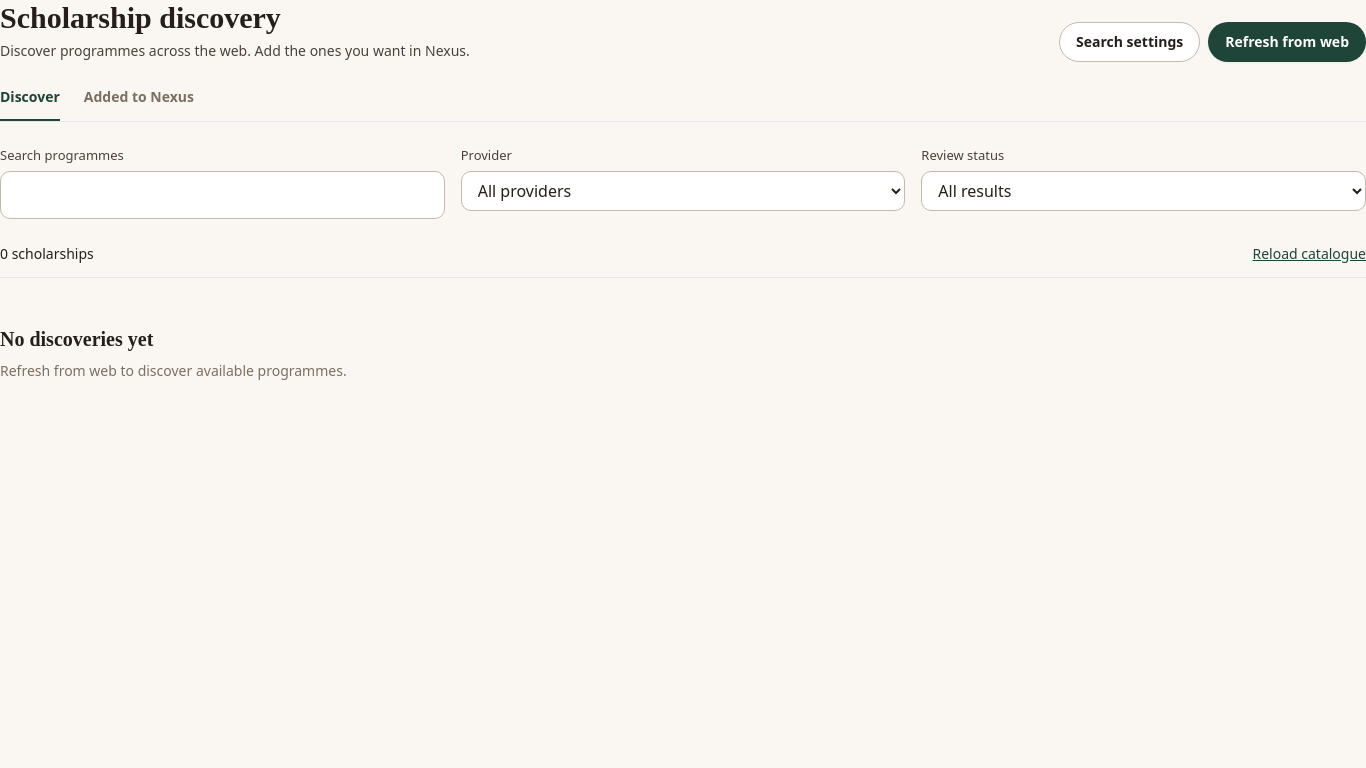
requires an explicit approval action for pending published changes
expect the text "0 scholarships" is shown: met, box [0, 243, 94, 265]
Click the tab "Added to Nexus". click: (139, 104)
box: [84, 86, 194, 121]
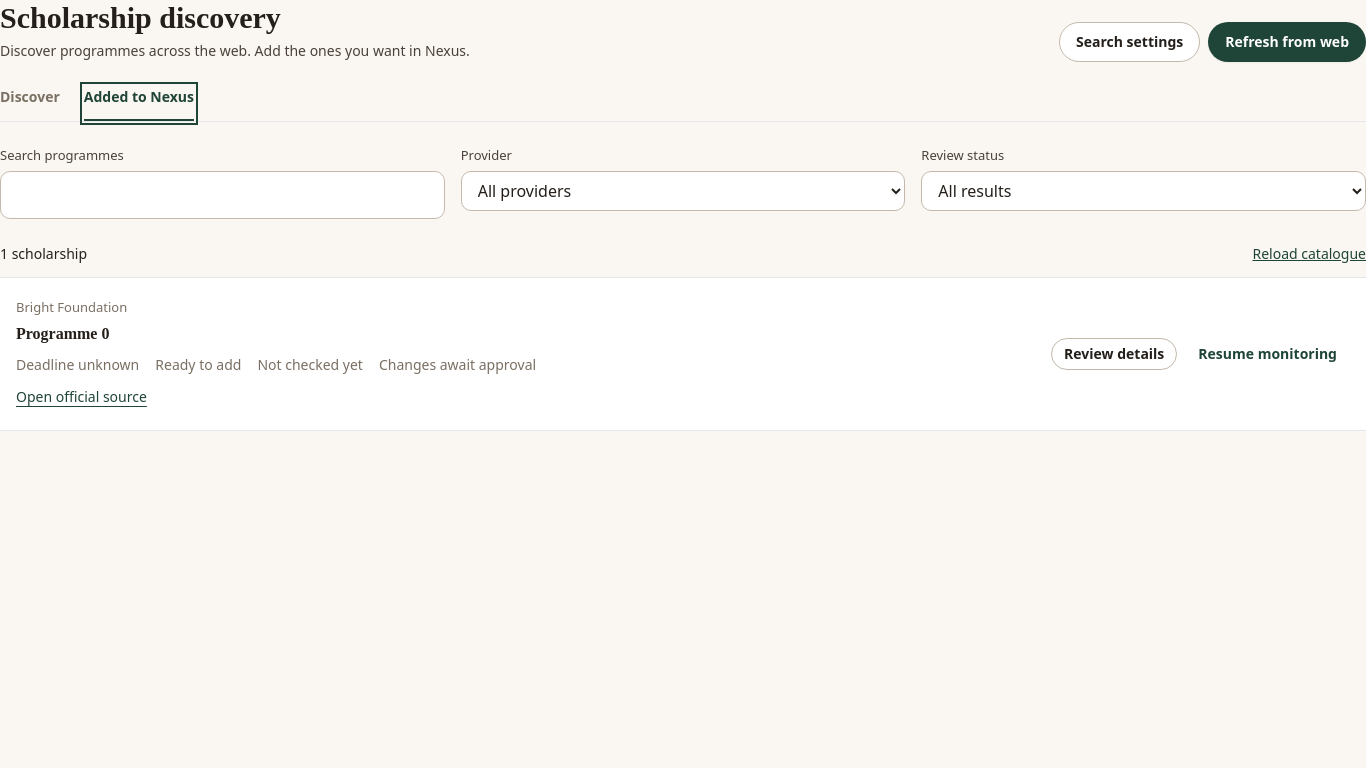
expect the text "1 scholarship" is shown: met, box [0, 243, 87, 265]
Click the button "Review details". click: (1114, 354)
box: [1051, 338, 1177, 370]
(page scrolled)
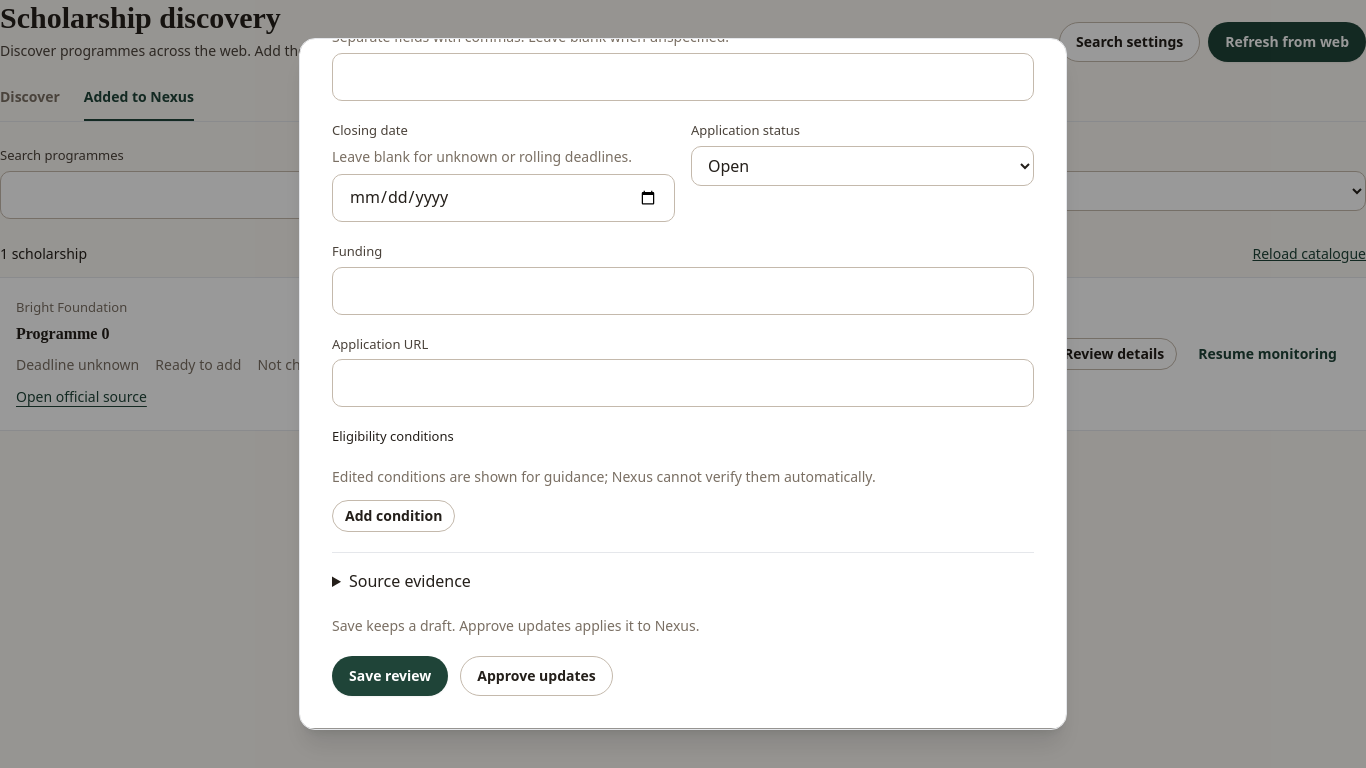
Click the button "Approve updates". click: (536, 676)
box: [460, 656, 613, 696]
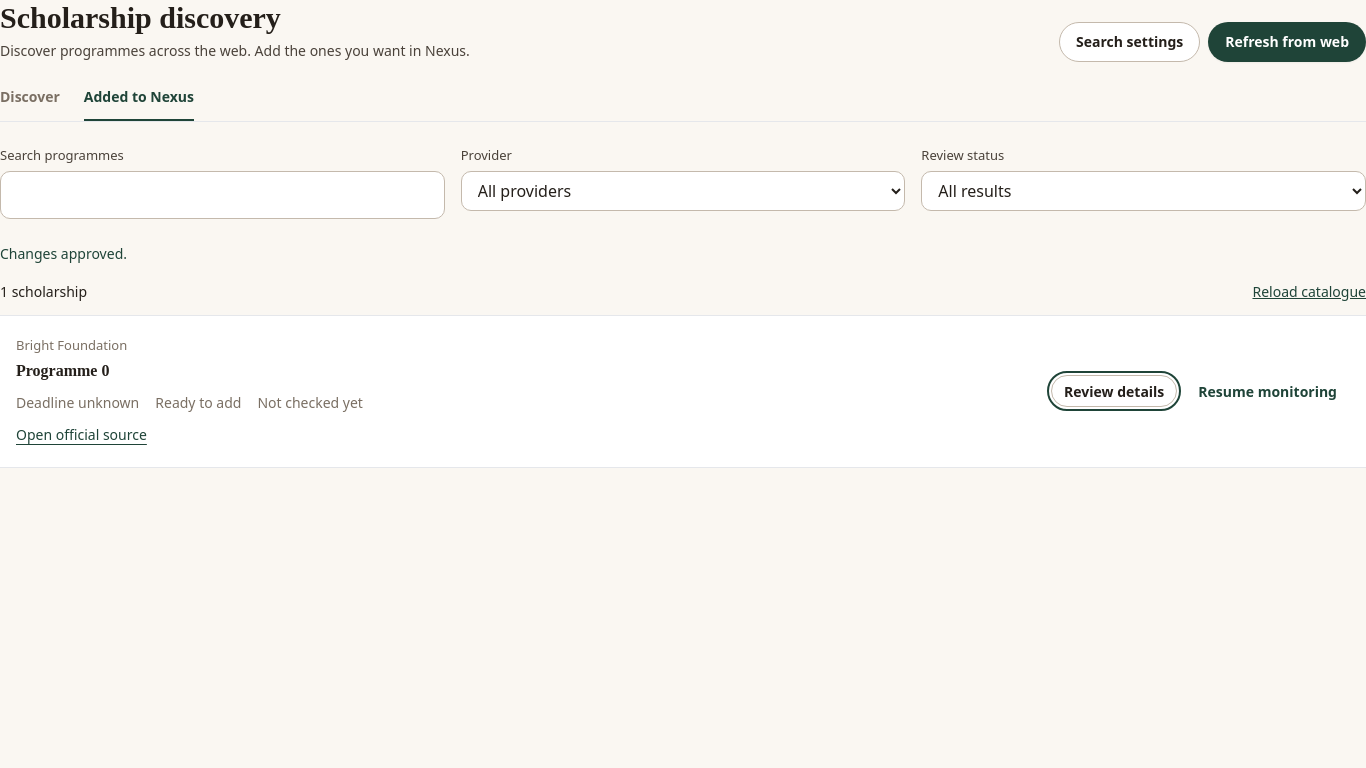
expect the text "Changes approved." is shown: met, box [0, 244, 127, 263]
